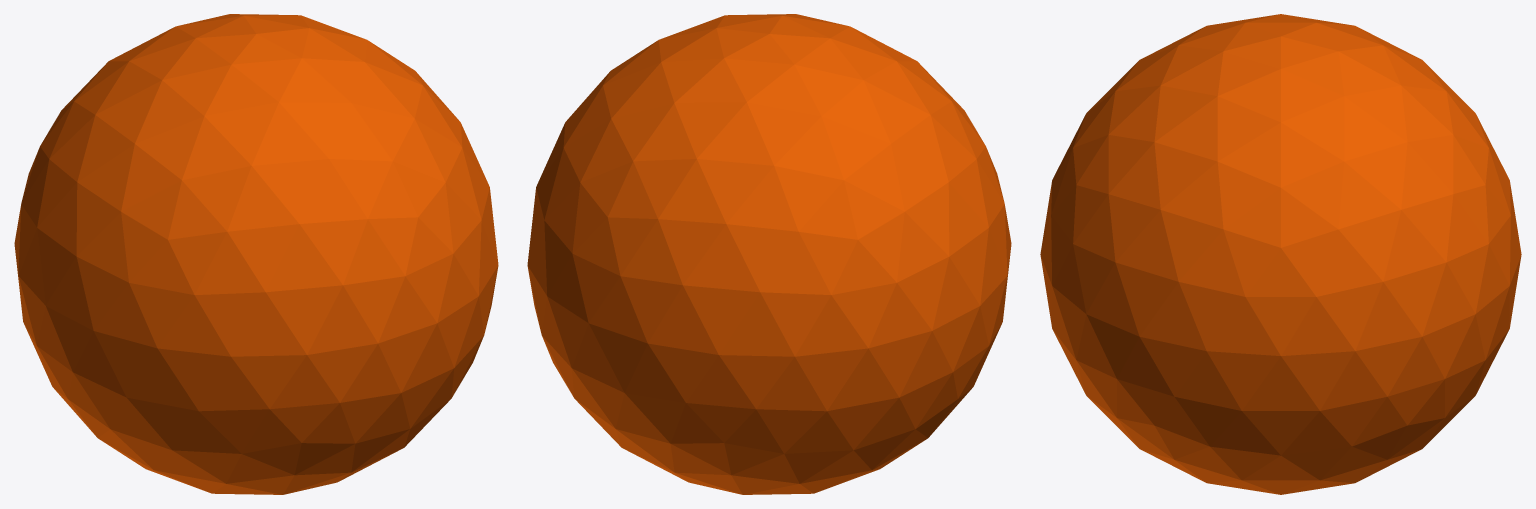
The model's file is sun.glb.
3 renders of one model, left to right at view 1: azimuth 30°, elevation 25°; view 2: azimuth 150°, elevation 25°; view 3: azimuth 270°, elevation 25°, orthographic.
Visible parts, largest first — view 1: Icosphere; view 2: Icosphere; view 3: Icosphere.
Part boxes in pixels (x1,y1,x2,y2): Icosphere: [14, 14, 498, 494]; Icosphere: [527, 14, 1011, 494]; Icosphere: [1040, 14, 1521, 494].
Size of the model in its own units: 21.08 by 21.08 by 21.08.
